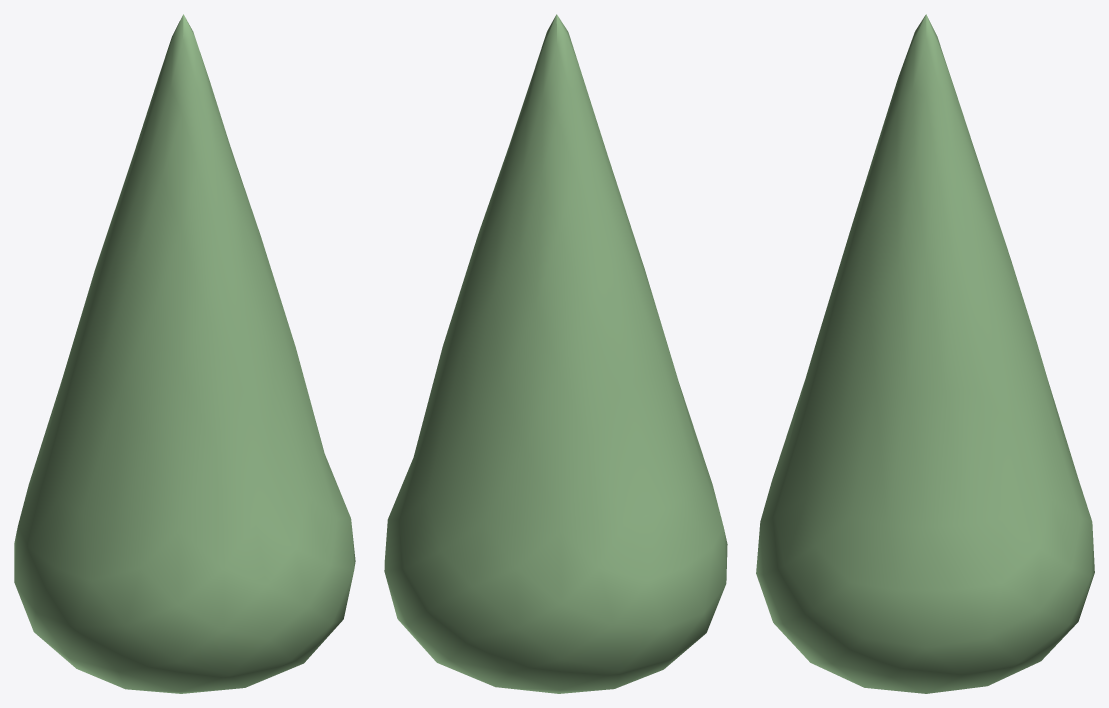
The model's file is tree-conifer-a-crown.glb.
3 renders of one model, left to right at view 1: azimuth 30°, elevation 25°; view 2: azimuth 150°, elevation 25°; view 3: azimuth 270°, elevation 25°, orthographic.
Visible parts, largest first — view 1: tree-conifer-a-crown; view 2: tree-conifer-a-crown; view 3: tree-conifer-a-crown.
Part boxes in pixels (x1,y1,x2,y2): tree-conifer-a-crown: (14, 14, 355, 693); tree-conifer-a-crown: (384, 14, 727, 693); tree-conifer-a-crown: (756, 14, 1094, 693).
Bounding box in the file's own units: 0.3078 × 0.65 × 0.3051.
